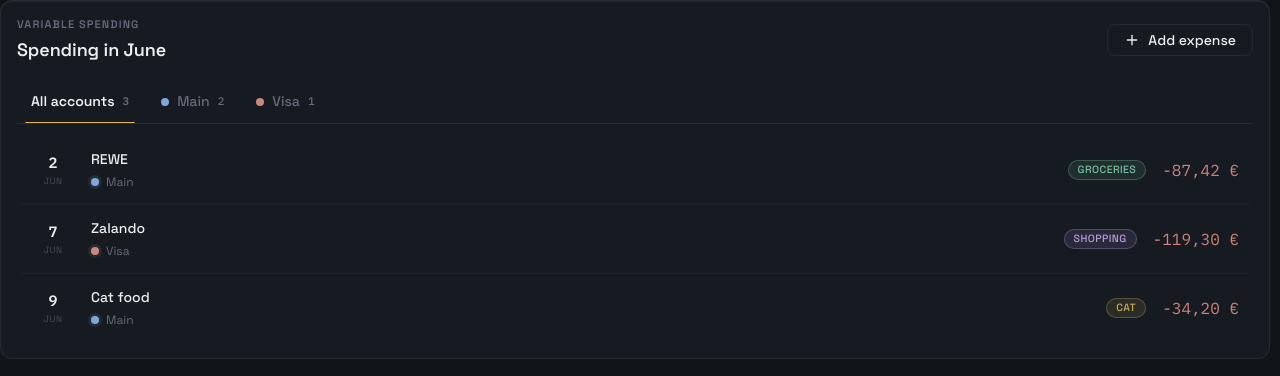
Test: SpendingList › filters to the selected account when its tab is clicked
Click the tab "Visa 1" at (285, 102), box x1=242 y1=80 x2=328 y2=123
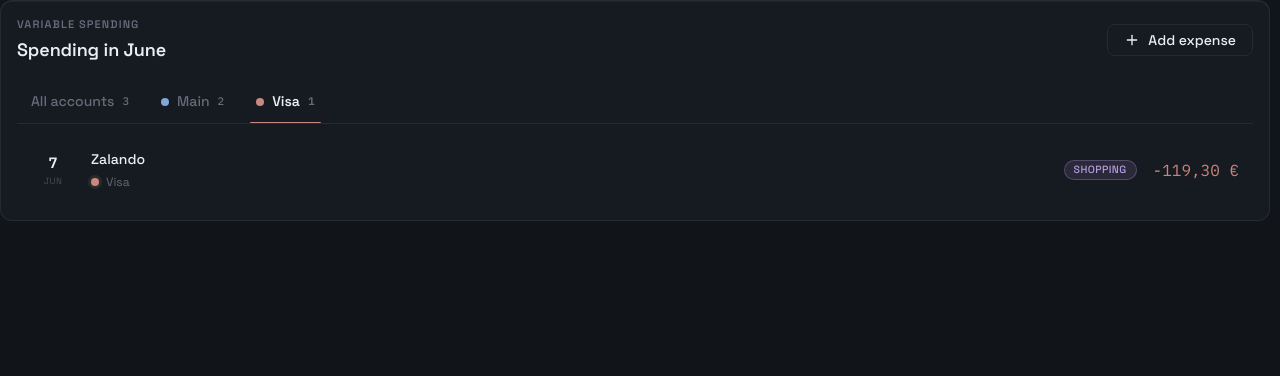
Expected: the text "Zalando" is shown, x1=91 y1=150 x2=145 y2=168
Expected: the text "Cat food" is gone
